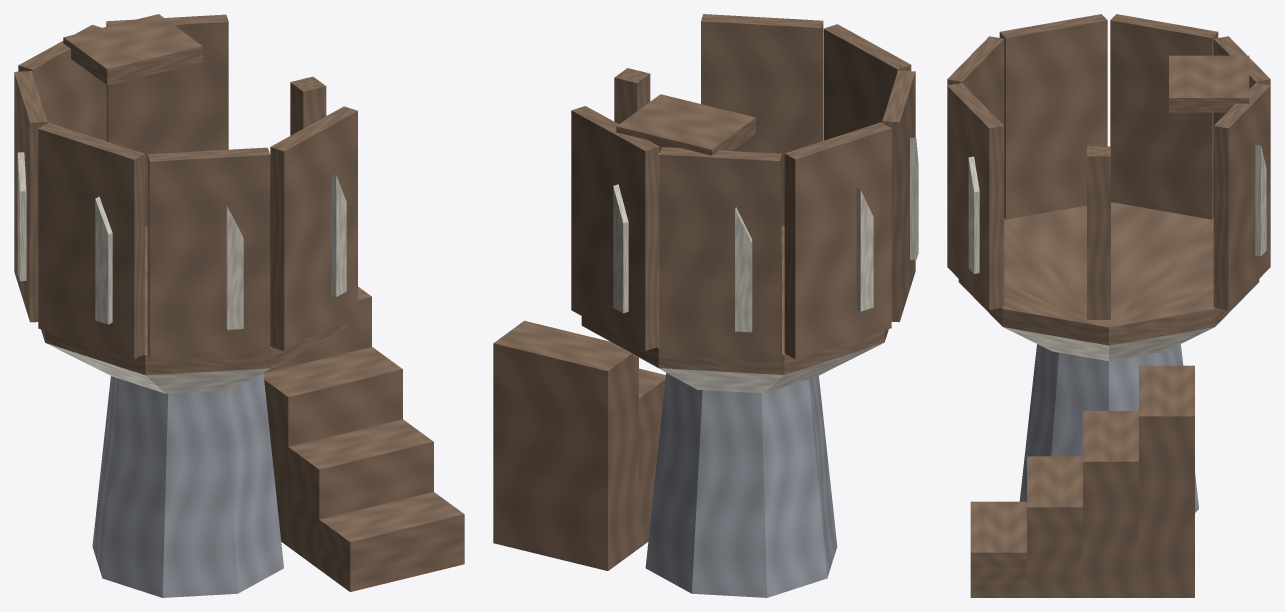
File: vampire-crypt-and-gothic-cathedral-pulpit-5a7f3da8__23000.glb
The picture shows the model from 3 angles, left to right: view 1: azimuth 30°, elevation 25°; view 2: azimuth 150°, elevation 25°; view 3: azimuth 270°, elevation 25°; orthographic projection. The views are drawn at different scales.
Visible parts, largest first — view 1: pulpit; view 2: pulpit; view 3: pulpit.
Part boxes in pixels (x1,y1,x2,y2): pulpit: (14, 14, 464, 597); pulpit: (493, 14, 918, 597); pulpit: (947, 14, 1270, 597).
Size of the model in its own units: 1.86 by 2.38 by 1.61.
3 materials, 3 textured.
